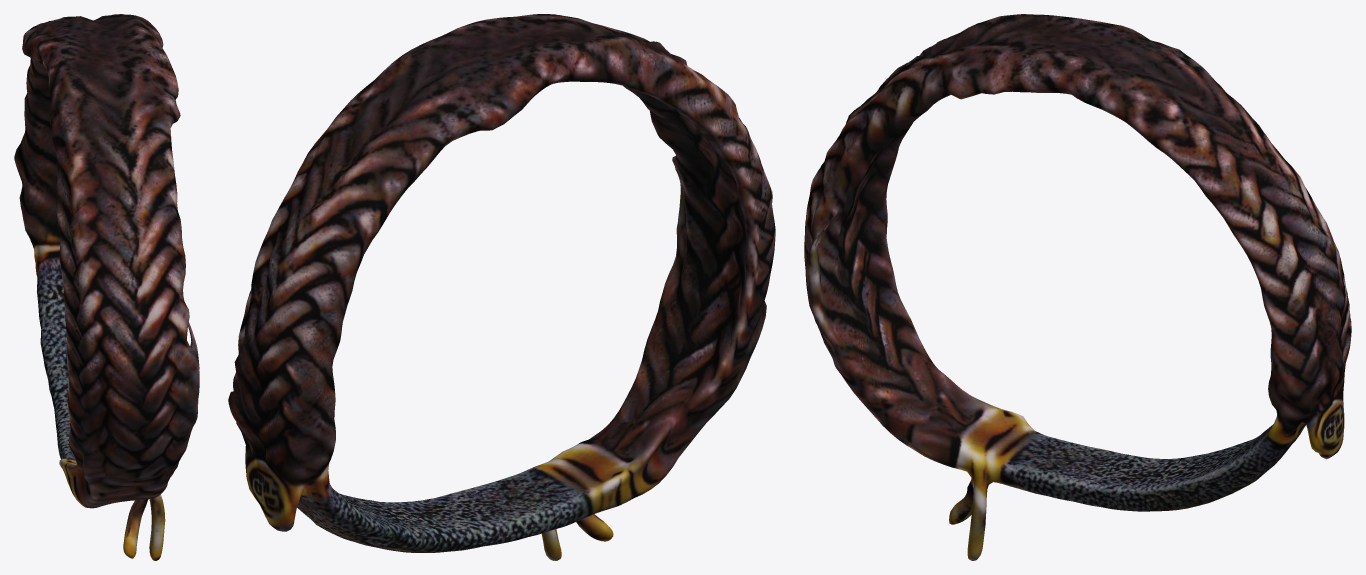
The model's file is pulsera.glb.
The picture shows the model from 3 angles, left to right: view 1: azimuth 30°, elevation 25°; view 2: azimuth 150°, elevation 25°; view 3: azimuth 270°, elevation 25°; orthographic projection. The views are drawn at different scales.
Visible parts, largest first — view 1: node_5f04c021_11e8_4eb9_ad44_87069714ded0_mesh0; view 2: node_5f04c021_11e8_4eb9_ad44_87069714ded0_mesh0; view 3: node_5f04c021_11e8_4eb9_ad44_87069714ded0_mesh0.
Boxes of the visible parts, left/top/right/bottom form: node_5f04c021_11e8_4eb9_ad44_87069714ded0_mesh0: left=14, top=14, right=199, bottom=560; node_5f04c021_11e8_4eb9_ad44_87069714ded0_mesh0: left=228, top=14, right=775, bottom=560; node_5f04c021_11e8_4eb9_ad44_87069714ded0_mesh0: left=804, top=14, right=1351, bottom=560.
Bounding box in the file's own units: 0.5468 × 0.9979 × 0.9552.
Materials: 1 (1 with a texture image).
